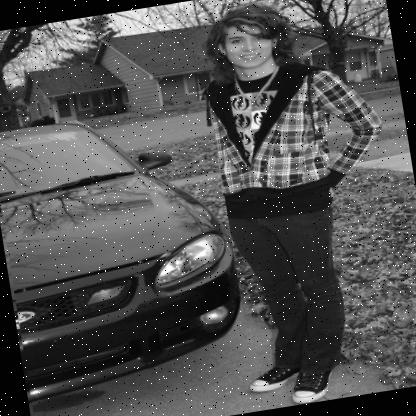Car: (0, 99, 253, 414)
